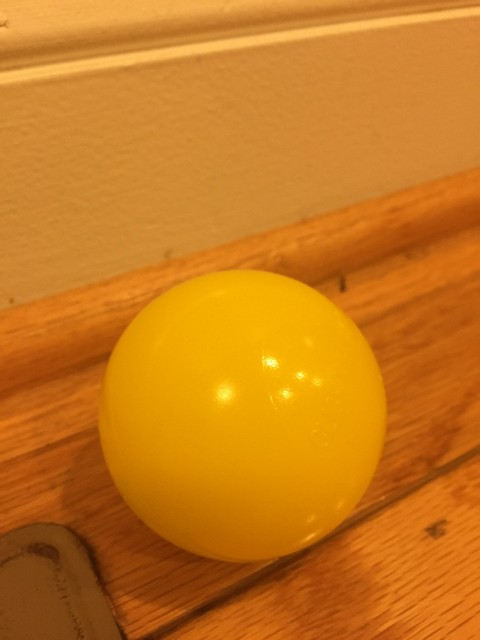ball: (92, 264, 388, 568)
